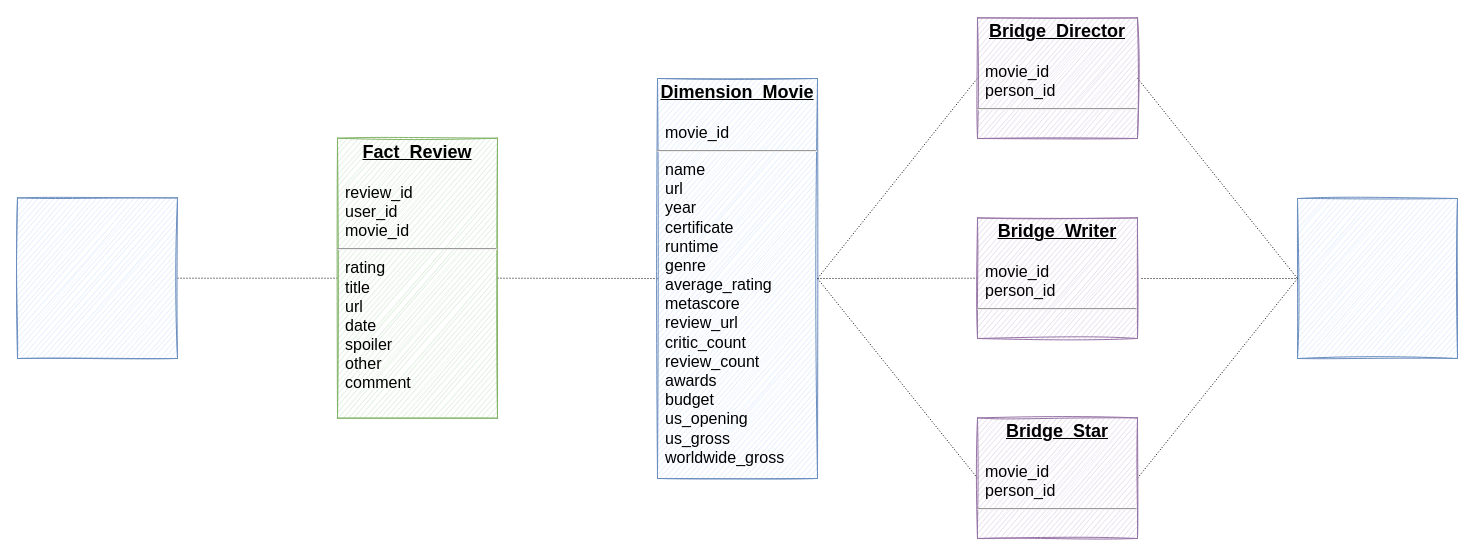
This 1475x556 diagram has some shape labels left out. The centre of each missing label's shape, as x and y in pixels:
"Dimension_Person person_id person_name person_url" goes at (1377,278).
"Dimension_User user_id user_name user_url" goes at (97,277).
